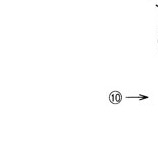enseble_chain: (125, 90, 151, 105), (109, 89, 122, 104)
